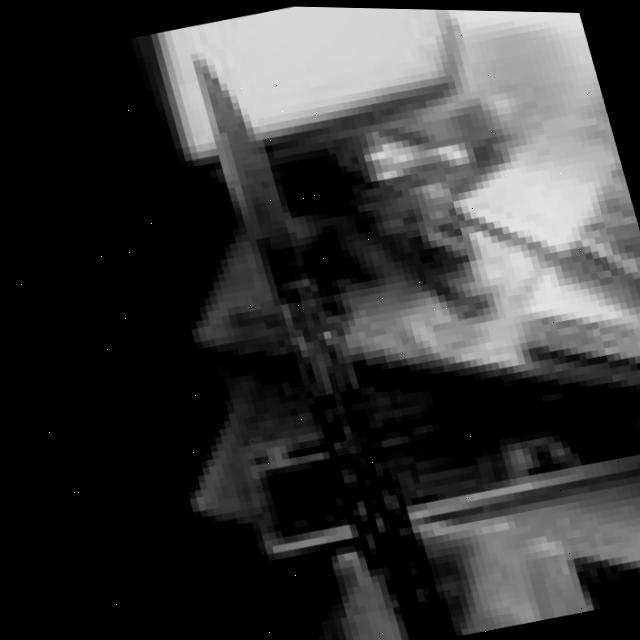knife: (178, 22, 453, 640)
